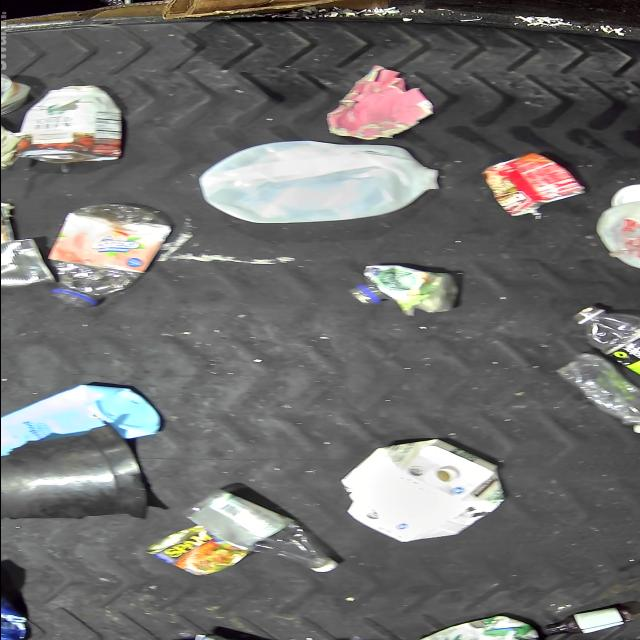can: (484, 153, 584, 217), (0, 238, 55, 287), (0, 74, 31, 118)
milk_jug: (196, 138, 442, 224)
non_white_jug: (339, 438, 505, 540), (0, 385, 152, 464), (402, 615, 540, 640)
plastic_bottle: (182, 489, 338, 573), (49, 204, 173, 308), (555, 352, 640, 428), (569, 306, 640, 378)
